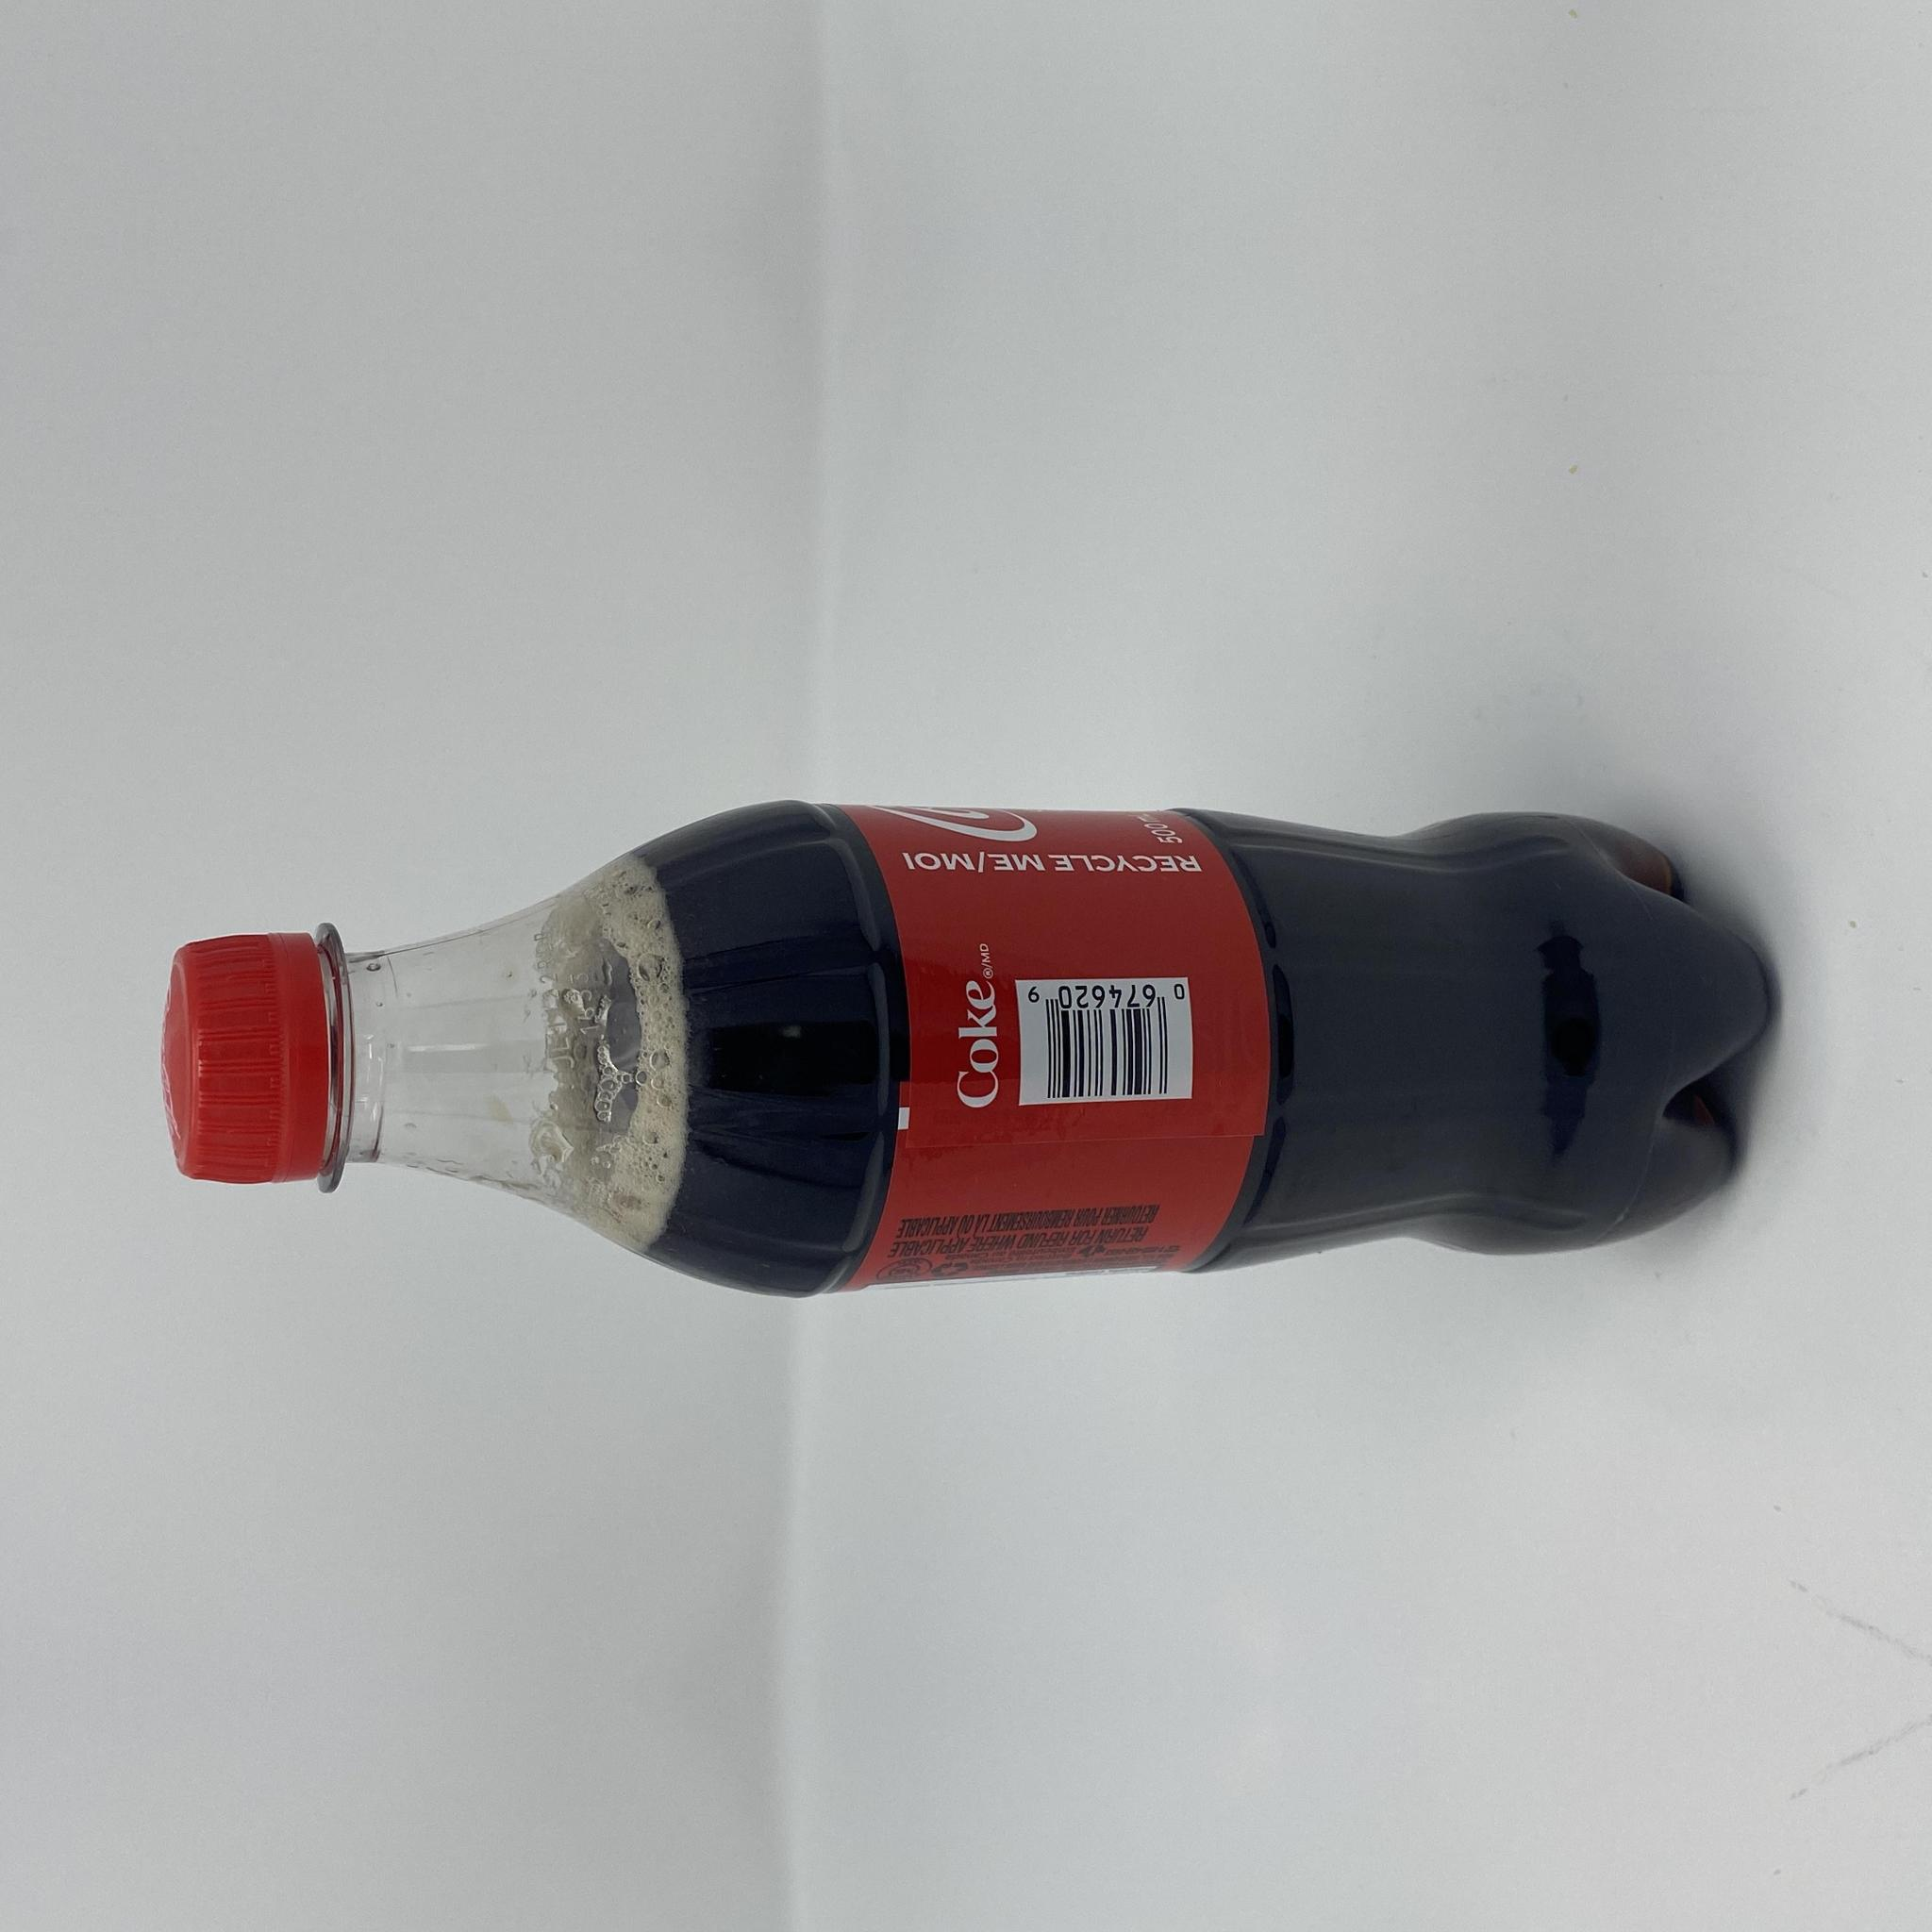PET: (161, 798, 1776, 1297)
cocacola: (161, 798, 1776, 1297)
plastic: (161, 798, 1776, 1297)
soft-drink: (161, 798, 1776, 1297)
